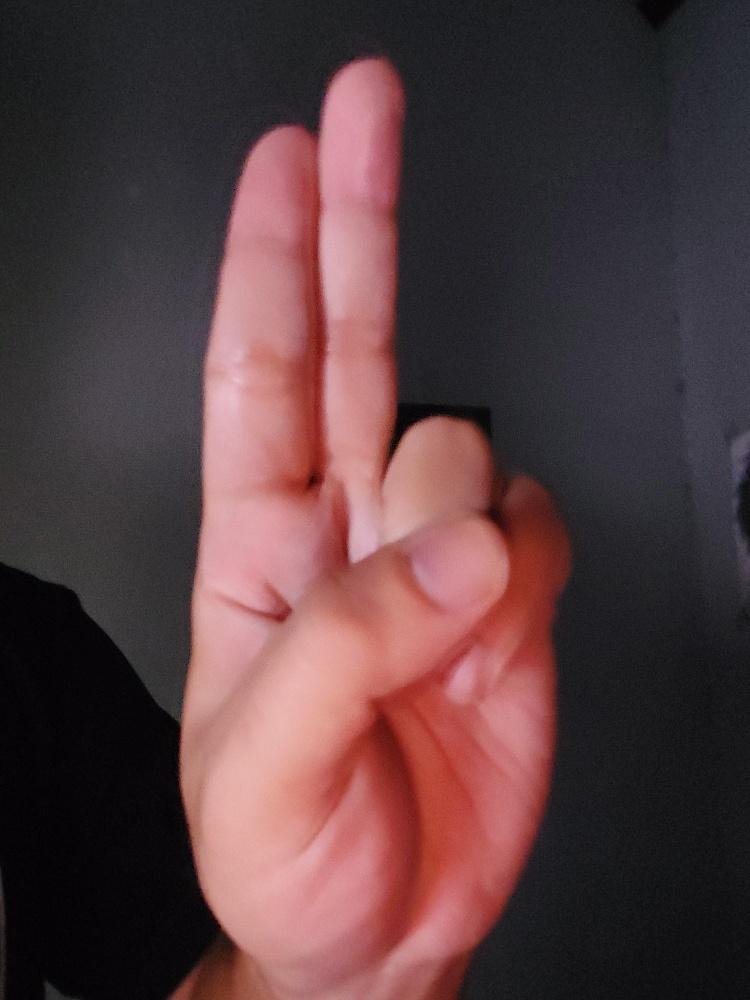u: (175, 51, 566, 973)
